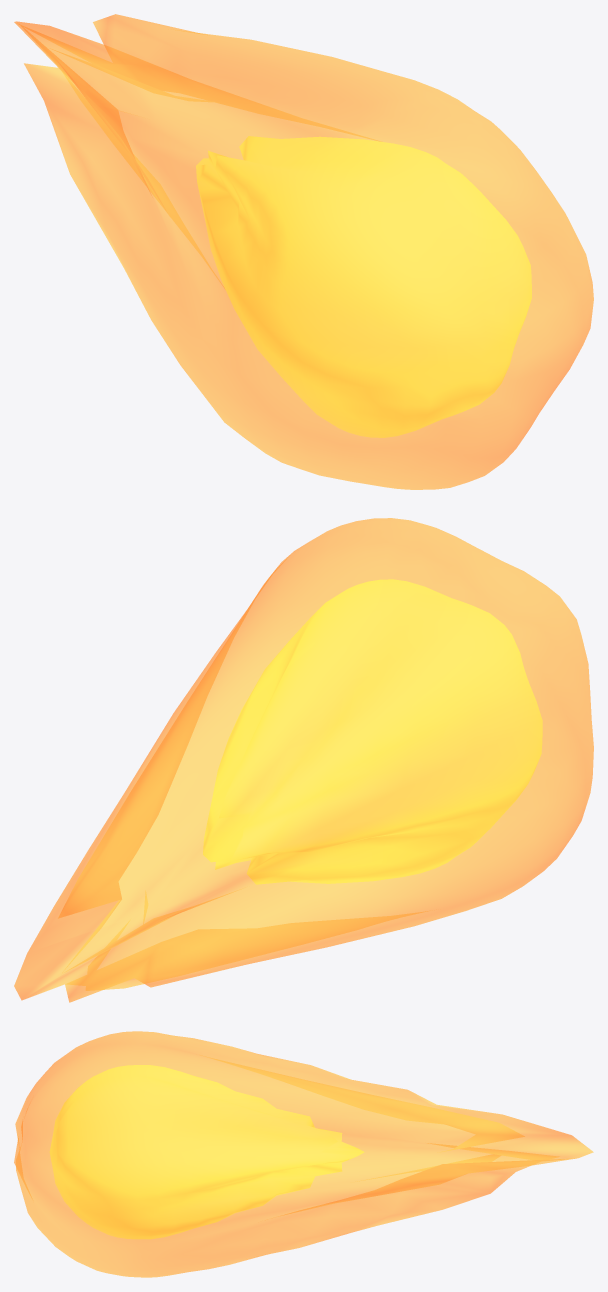
Rendered from fireball.glb.
The picture shows the model from 3 angles, top to bottom: view 1: azimuth 30°, elevation 25°; view 2: azimuth 150°, elevation 25°; view 3: azimuth 270°, elevation 25°; orthographic projection. The views are drawn at different scales.
Parts seen in each view (by area): view 1: Glow, Flame; view 2: Glow, Flame; view 3: Glow, Flame.
Boxes of the visible parts, x1,y1,x2,y2 form: Glow: (14,14,593,489); Flame: (196,136,531,437); Glow: (14,518,593,1002); Flame: (203,579,542,884); Glow: (14,1031,593,1277); Flame: (49,1065,364,1239).
Size of the model in its own units: 0.4815 by 0.4868 by 1.14.
